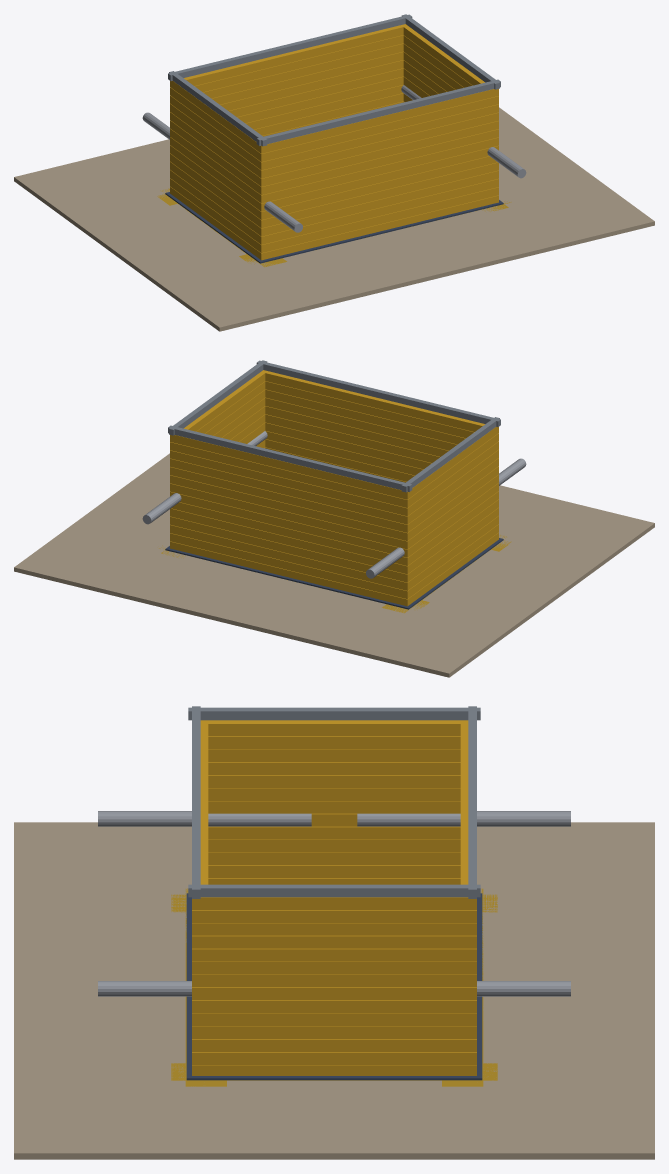
Rendered from stage_06_walls.glb.
3 renders of one model, top to bottom at view 1: azimuth 30°, elevation 25°; view 2: azimuth 150°, elevation 25°; view 3: azimuth 270°, elevation 25°, orthographic. The views are drawn at different scales.
Parts seen in each view (by area): view 1: world; view 2: world; view 3: world.
Part boxes in pixels (x1,y1,x2,y2): world: (14, 14, 654, 331); world: (14, 360, 654, 677); world: (14, 706, 654, 1159).
Bounding box in the file's own units: 11 × 3.74 × 9.
